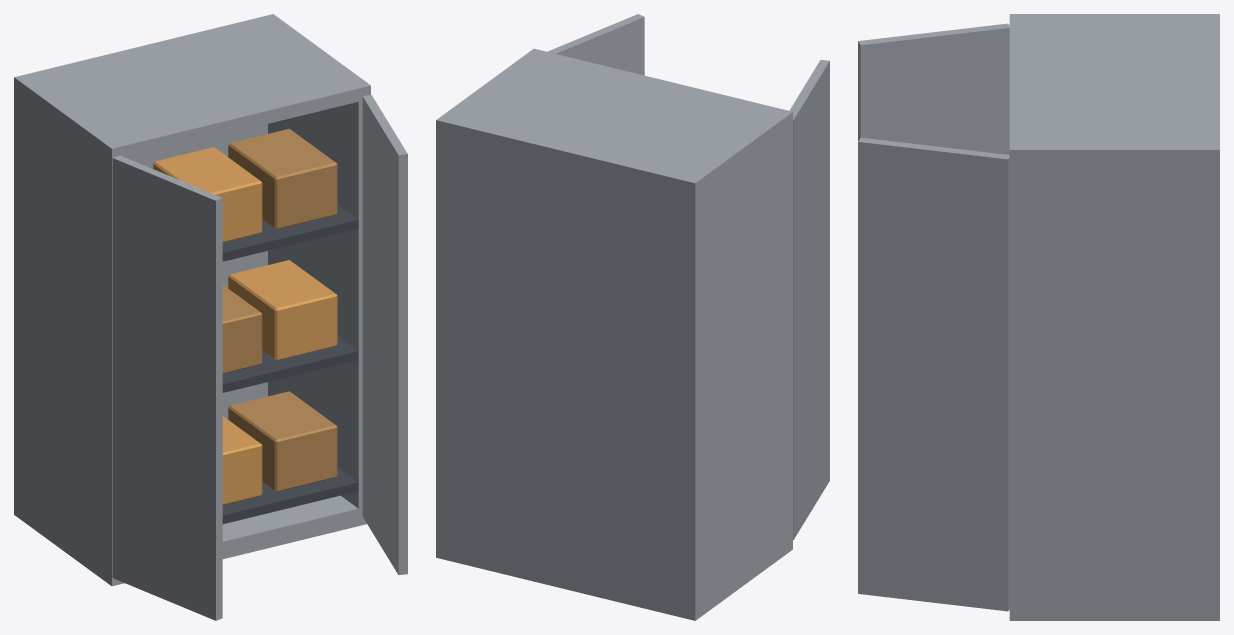
Rendered from thumbtacks_p1_4.glb.
3 views of the same model, side by side, from view 1: azimuth 30°, elevation 25°; view 2: azimuth 150°, elevation 25°; view 3: azimuth 270°, elevation 25° (orthographic). The views are drawn at different scales.
Visible parts, largest first — view 1: thumbtacks_p1_4_mesh; view 2: thumbtacks_p1_4_mesh; view 3: thumbtacks_p1_4_mesh.
Boxes of the visible parts, box(x1,y1,x2,y2) form: thumbtacks_p1_4_mesh: box(14, 14, 407, 620); thumbtacks_p1_4_mesh: box(436, 14, 829, 620); thumbtacks_p1_4_mesh: box(858, 14, 1219, 620).
Size of the model in its own units: 0.62 by 1 by 0.6967.
